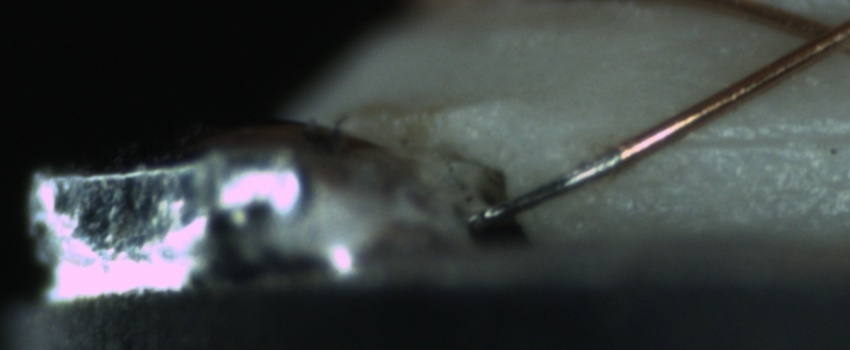CL: (779, 3, 848, 65)
DL: (670, 108, 850, 173)
TS: (472, 149, 622, 223)
